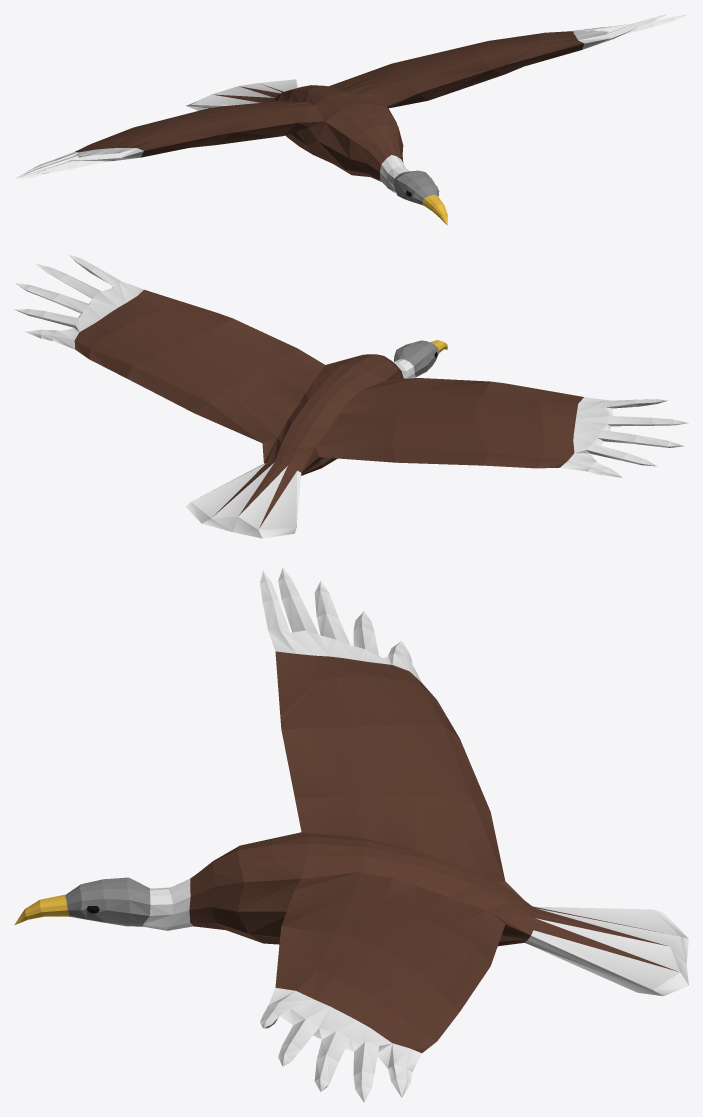
The model's file is bird 1.glb.
3 views of the same model, one above another, from view 1: azimuth 30°, elevation 25°; view 2: azimuth 150°, elevation 25°; view 3: azimuth 270°, elevation 25° (orthographic). The views are drawn at different scales.
Parts seen in each view (by area): view 1: wing left, wing right, body, tail, head; view 2: wing left, wing right, body, tail, head; view 3: wing right, wing left, body, tail, head.
Boxes of the visible parts, x1=… form: wing left: x1=329, y1=14, x2=687, y2=108; wing right: x1=15, y1=101, x2=324, y2=178; body: x1=269, y1=85, x2=409, y2=193; tail: x1=186, y1=79, x2=298, y2=110; head: x1=394, y1=170, x2=447, y2=225; wing left: x1=14, y1=254, x2=324, y2=443; wing right: x1=315, y1=378, x2=688, y2=477; body: x1=262, y1=354, x2=415, y2=475; tail: x1=186, y1=462, x2=301, y2=538; head: x1=394, y1=340, x2=447, y2=377; wing right: x1=260, y1=567, x2=505, y2=881; wing left: x1=260, y1=872, x2=505, y2=1102; body: x1=143, y1=832, x2=534, y2=946; tail: x1=525, y1=906, x2=688, y2=996; head: x1=14, y1=877, x2=150, y2=926.
Bounding box in the file's own units: 3.34 × 0.5062 × 1.86.
